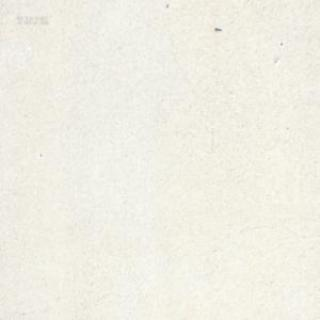Nailtrack_idkeyframe: (213, 25, 220, 31)
